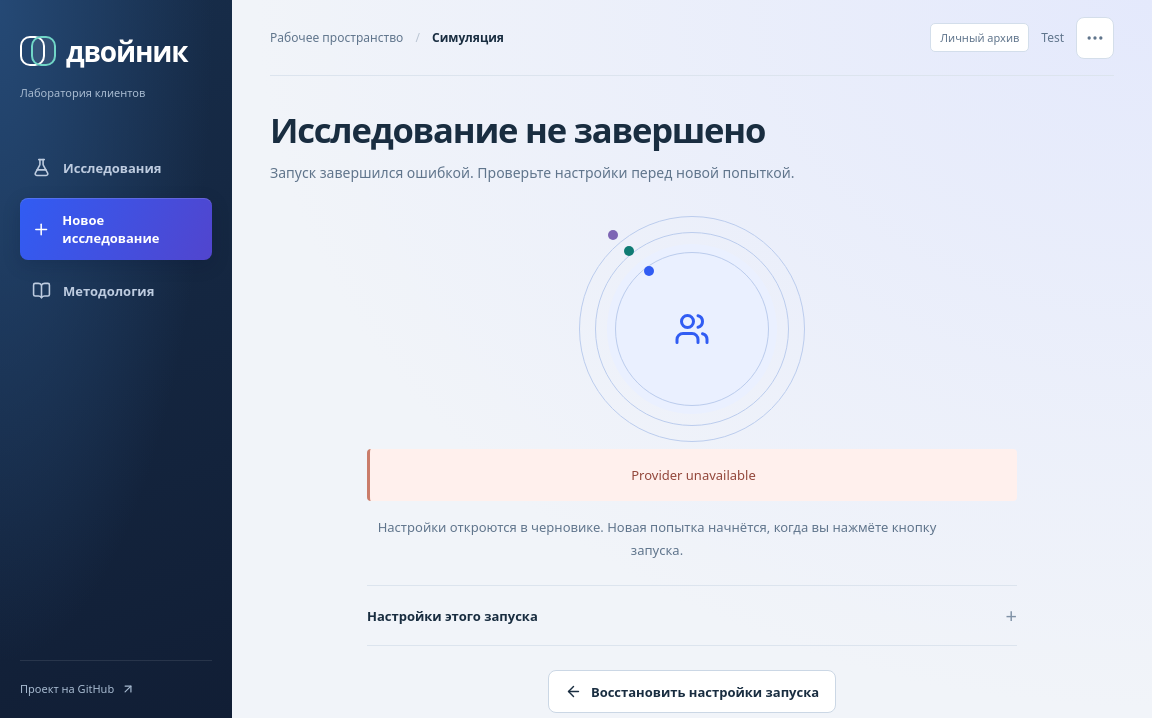
it: recovers failed job settings after a fresh workspace load without starting a run
Click the button "Восстановить настройки запуска" at (692, 692), box [548, 670, 836, 714]
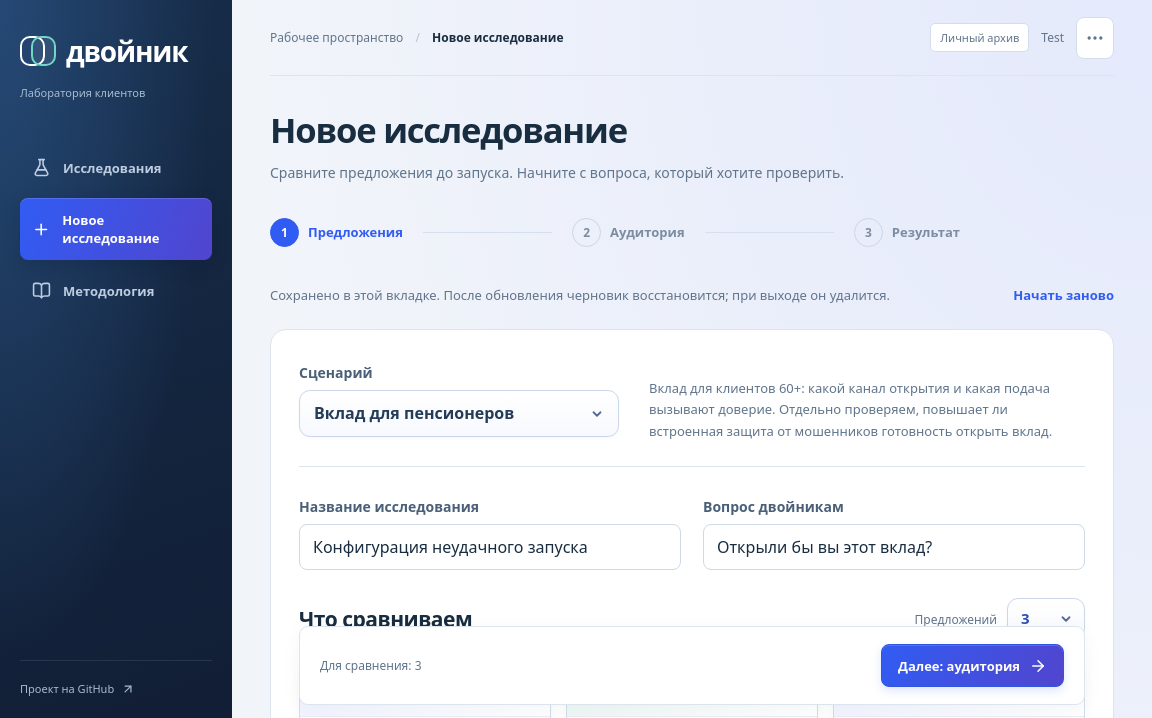
Expected: the field labelled "Название исследования" holds "Конфигурация неудачного запуска", [299, 524, 681, 570]
